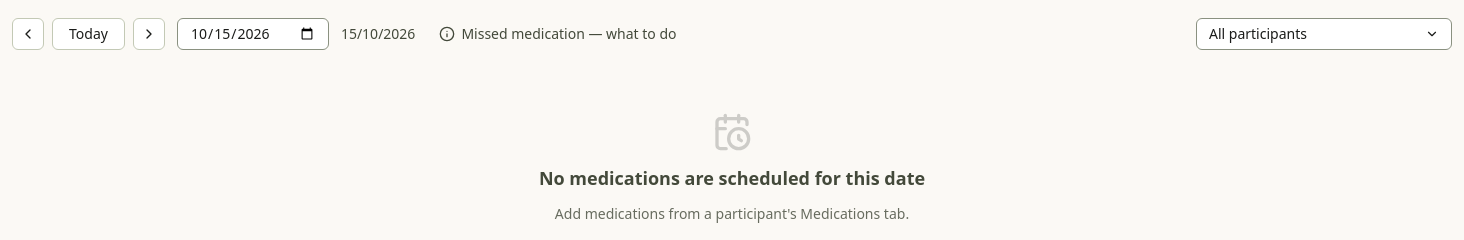
Scenario: MarTab — day navigation › moving the shown day › Previous day shows the day before
Click the button named "Previous day": (28, 34) [12,18,44,50]
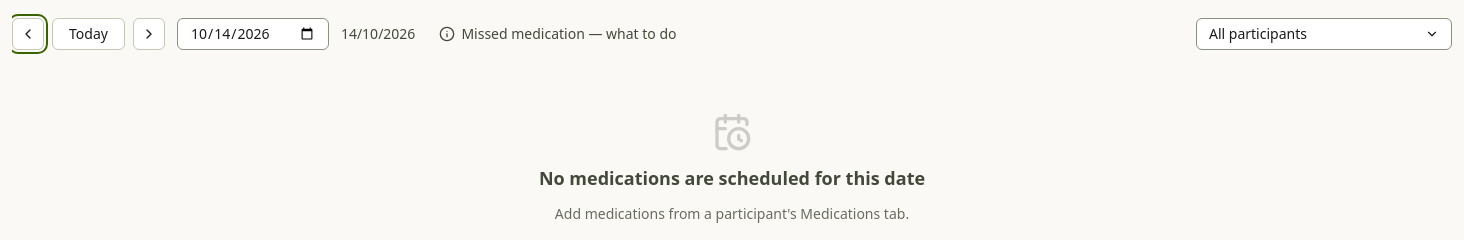
Check: the date field named "Select date" holds "2026-10-14", box [177,18,329,50]
